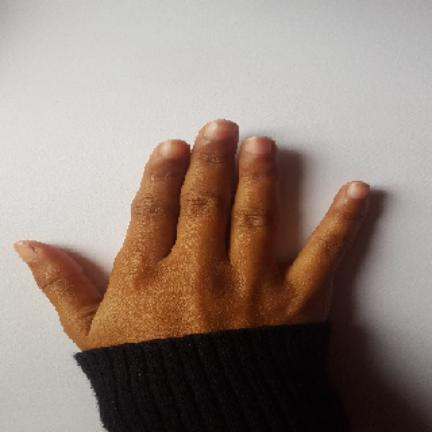Nail: (204, 120, 238, 140), (241, 137, 273, 155), (160, 140, 190, 159), (14, 241, 37, 262), (346, 181, 370, 199)
